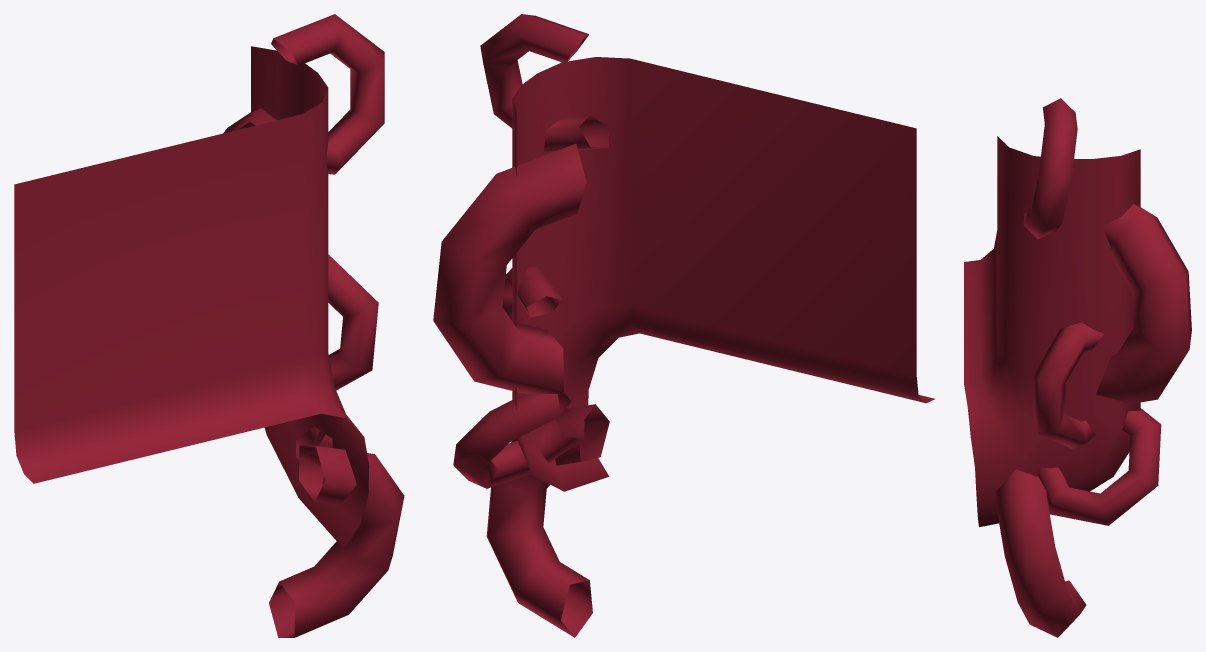
The model's file is Surface_InnerCornerWall.fbx.
The picture shows the model from 3 angles, left to right: view 1: azimuth 30°, elevation 25°; view 2: azimuth 150°, elevation 25°; view 3: azimuth 270°, elevation 25°; orthographic projection. The views are drawn at different scales.
Visible parts, largest first — view 1: Surface_InnerCornerWall; view 2: Surface_InnerCornerWall; view 3: Surface_InnerCornerWall.
Part boxes in pixels (x1=…): Surface_InnerCornerWall: x1=14, y1=14, x2=404, y2=637; Surface_InnerCornerWall: x1=433, y1=14, x2=934, y2=637; Surface_InnerCornerWall: x1=964, y1=98, x2=1191, y2=637.
Bounding box in the file's own units: 2540 × 3641 × 1415.
